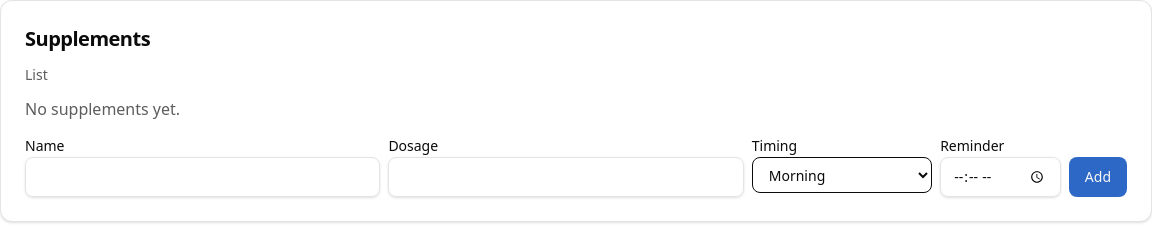
Test: SupplementsSection › posts a new supplement and refreshes the list
Expected: the text "No supplements yet." is shown, [25,98,180,120]
Type "Creatine" into the field labelled "Name".
click(203, 177); type("Creatine")  # box [25,157,380,197]
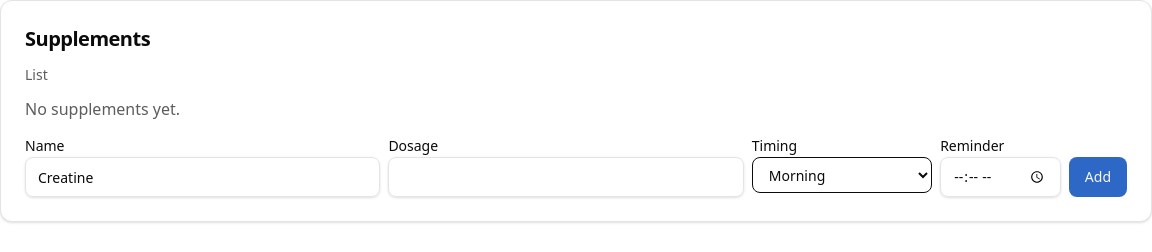
Type "5g" into the field labelled "Dosage".
click(566, 177); type("5g")  # box [388,157,744,197]
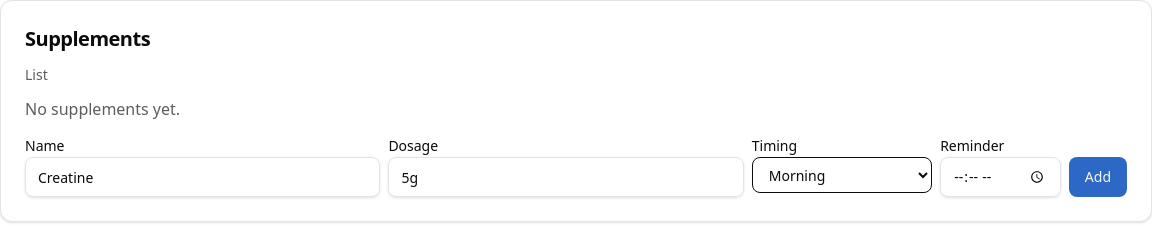
Click the button "Add".
click(1098, 177)  # box [1069,157,1127,197]
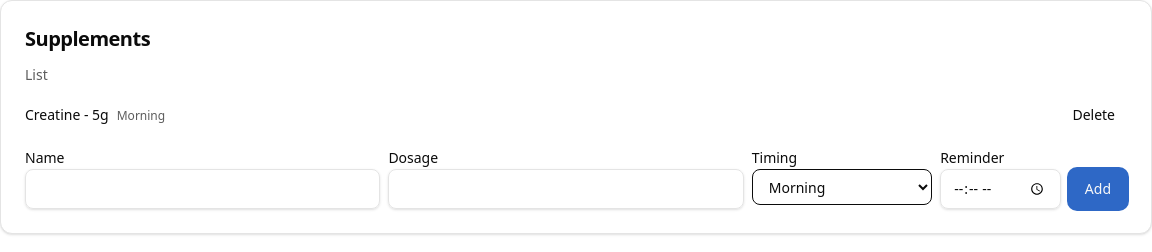
Expected: the text "Creatine" is shown, [25,105,80,124]
